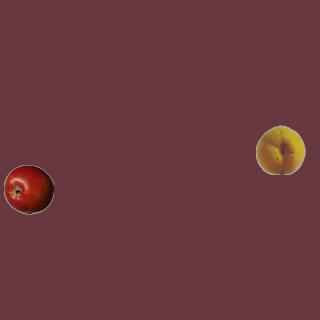Apple Braeburn: (3, 164, 53, 214)
Peach 2: (255, 124, 305, 174)
